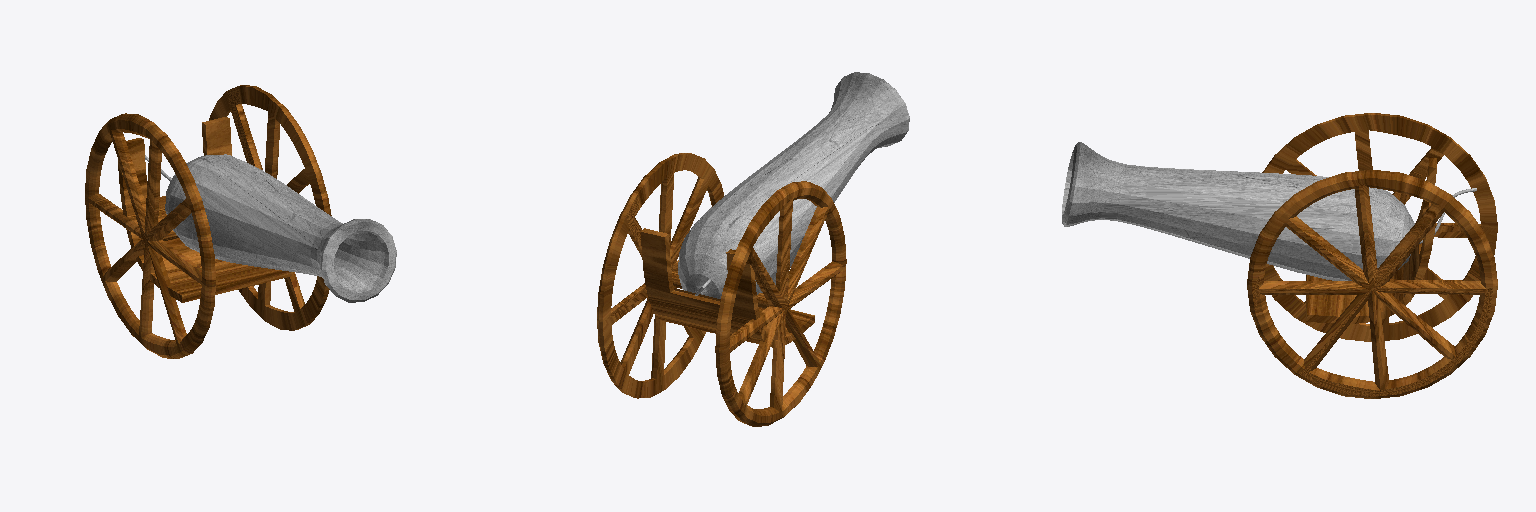
3 views of the same model, side by side, from view 1: azimuth 30°, elevation 25°; view 2: azimuth 150°, elevation 25°; view 3: azimuth 270°, elevation 25° (orthographic).
Visible parts, largest first — view 1: Wheels, Cannon; view 2: Wheels, Cannon; view 3: Wheels, Cannon.
Part boxes in pixels (x1,y1,x2,y2): Wheels: (85, 85, 331, 358); Cannon: (145, 154, 396, 302); Wheels: (597, 153, 846, 426); Cannon: (678, 72, 909, 298); Wheels: (1247, 113, 1497, 398); Cannon: (1062, 142, 1476, 280).
Size of the model in its own units: 34.14 by 57.59 by 100.
Materials: 2 (2 with a texture image).